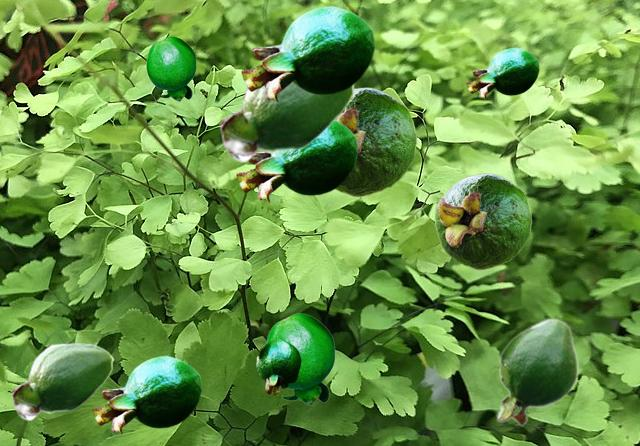guava: (241, 5, 374, 101), (219, 83, 355, 162), (236, 121, 357, 201), (434, 173, 531, 269), (496, 317, 577, 426), (336, 87, 416, 196), (92, 355, 201, 433), (11, 342, 113, 420), (265, 313, 334, 404), (466, 47, 538, 98), (146, 36, 195, 100), (256, 339, 300, 394)
